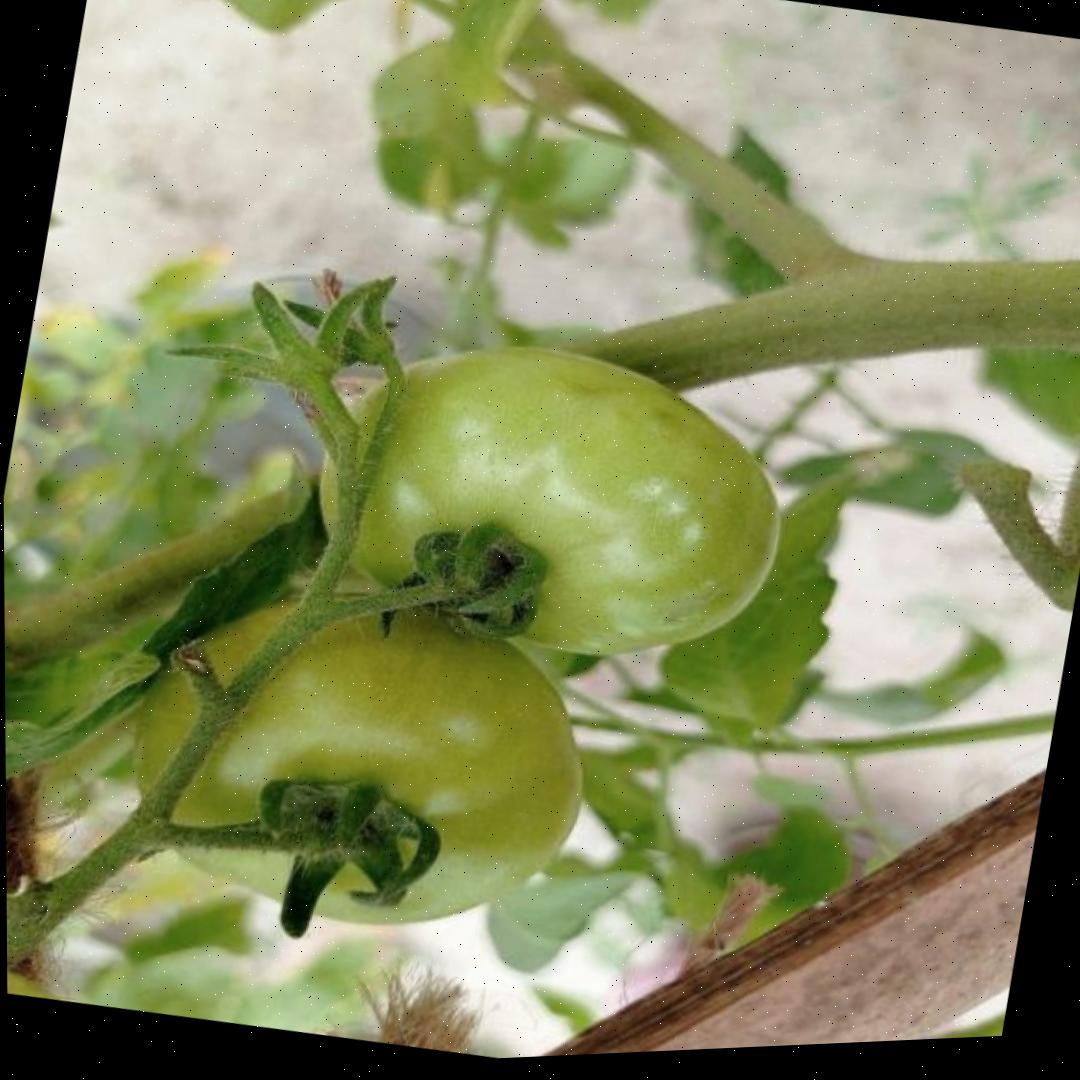mentah: (105, 541, 618, 975), (284, 297, 814, 700)
